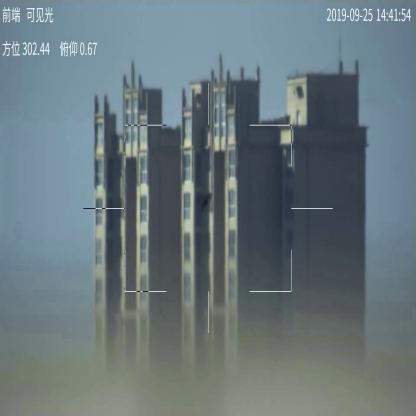uav: (197, 191, 214, 214)
